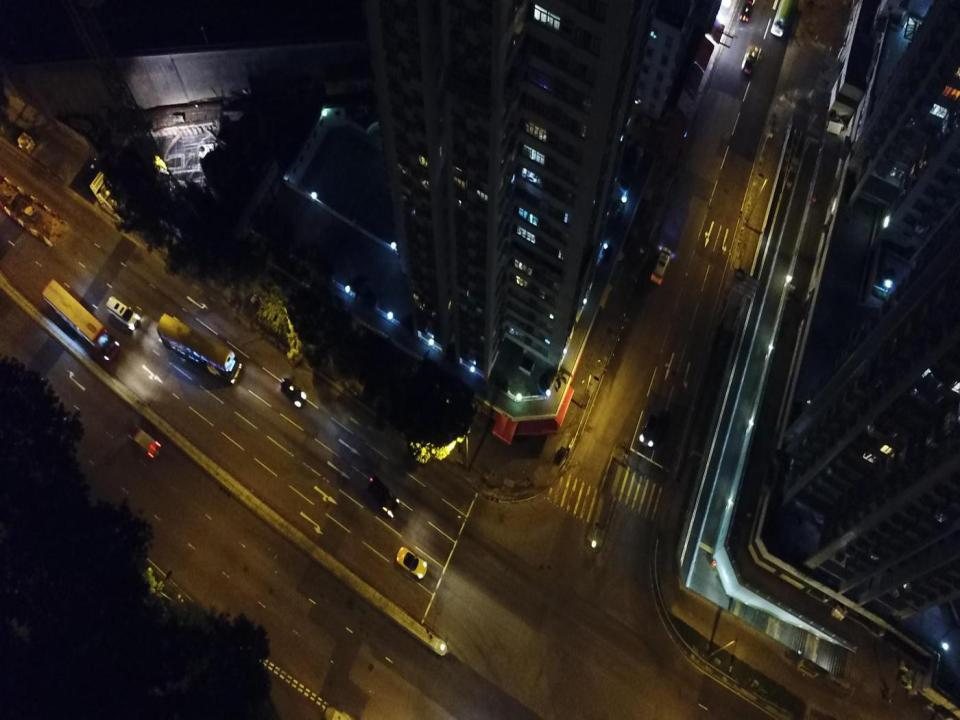bus: (40, 278, 120, 363), (156, 312, 243, 384), (770, 0, 792, 37)
car: (366, 474, 400, 518), (105, 295, 140, 334), (126, 423, 161, 460), (396, 546, 428, 580), (650, 246, 673, 286), (279, 377, 308, 408), (639, 413, 659, 449), (740, 43, 760, 76), (738, 0, 756, 23)
